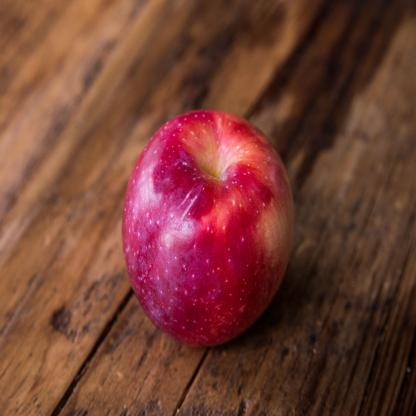apple: (118, 104, 295, 362)
